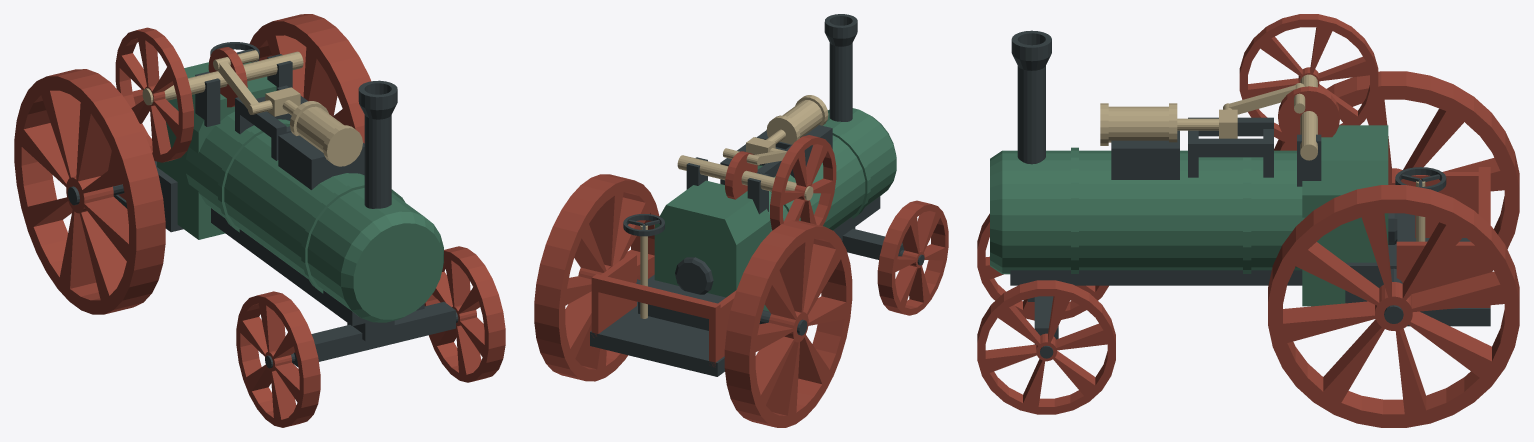
3 views of the same model, side by side, from view 1: azimuth 30°, elevation 25°; view 2: azimuth 150°, elevation 25°; view 3: azimuth 270°, elevation 25° (orthographic). The views are drawn at different scales.
Visible parts, largest first — view 1: LeftRearWholeOpenSpokeWheel, WholeHorizontalBoilerExterior, LeftFrontWholeOpenSpokeWheel, RightFrontWholeOpenSpokeWheel, RightRearWholeOpenSpokeWheel, WholeSideOpenSpokeFlywheel, WholeFrontPivotedCrossFrame, WholeRearUprightFirebox, WholeTallFrontFlaredStack, WholeLongChassisAndRearFootplate, WholeTopCylinderAndCovers, WholeUpperEngineSaddle (+7 smaller); view 2: LeftRearWholeOpenSpokeWheel, RightRearWholeOpenSpokeWheel, WholeRearUprightFirebox, WholeLongChassisAndRearFootplate, LeftFrontWholeOpenSpokeWheel, WholeHorizontalBoilerExterior, WholeRearPlatformGuard, WholeSideOpenSpokeFlywheel, WholeTallFrontFlaredStack, WholeTopCylinderAndCovers, WholeUpperTransverseCrankshaft, WholeRearFireboxDoor (+9 smaller); view 3: WholeHorizontalBoilerExterior, RightRearWholeOpenSpokeWheel, RightFrontWholeOpenSpokeWheel, LeftRearWholeOpenSpokeWheel, WholeRearUprightFirebox, WholeLongChassisAndRearFootplate, WholeSideOpenSpokeFlywheel, WholeRearPlatformGuard, WholeTallFrontFlaredStack, WholeTopGuideSupport, WholeTopCylinderAndCovers, WholeUpperEngineSaddle (+9 smaller).
Boxes of the visible parts, x1,y1,x2,y2 form: LeftRearWholeOpenSpokeWheel: (14,69,165,314); WholeHorizontalBoilerExterior: (186,111,443,322); LeftFrontWholeOpenSpokeWheel: (236,291,320,427); RightFrontWholeOpenSpokeWheel: (424,246,505,382); RightRearWholeOpenSpokeWheel: (249,14,370,143); WholeSideOpenSpokeFlywheel: (115,27,193,162); WholeFrontPivotedCrossFrame: (293,302,455,366); WholeRearUprightFirebox: (157,62,276,239); WholeTallFrontFlaredStack: (358,80,397,208); WholeLongChassisAndRearFootplate: (113,161,424,326); WholeTopCylinderAndCovers: (289,101,362,166); WholeUpperEngineSaddle: (278,132,364,189); LeftRearWholeOpenSpokeWheel: (724,220,852,427); RightRearWholeOpenSpokeWheel: (534,174,659,381); WholeRearUprightFirebox: (654,180,771,311); WholeLongChassisAndRearFootplate: (590,196,880,376); LeftFrontWholeOpenSpokeWheel: (877,200,948,315); WholeHorizontalBoilerExterior: (757,108,896,230); WholeRearPlatformGuard: (591,253,736,367); WholeSideOpenSpokeFlywheel: (770,135,836,230); WholeTallFrontFlaredStack: (824,14,857,121); WholeTopCylinderAndCovers: (766,95,828,144); WholeUpperTransverseCrankshaft: (677,155,813,200); WholeRearFireboxDoor: (675,257,713,294); WholeHorizontalBoilerExterior: (990,147,1322,274); RightRearWholeOpenSpokeWheel: (1268,185,1519,427); RightFrontWholeOpenSpokeWheel: (977,280,1115,414); LeftRearWholeOpenSpokeWheel: (1274,71,1519,272); WholeRearUprightFirebox: (1302,125,1388,306); WholeLongChassisAndRearFootplate: (1010,213,1490,326); WholeSideOpenSpokeFlywheel: (1239,14,1378,144); WholeRearPlatformGuard: (1396,167,1490,307); WholeTallFrontFlaredStack: (1011,30,1051,164); WholeTopGuideSupport: (1188,117,1273,177); WholeTopCylinderAndCovers: (1100,103,1177,145); WholeUpperEngineSaddle: (1111,130,1179,179).
Bounding box in the file's own units: 2.31 × 2.66 × 4.03.
